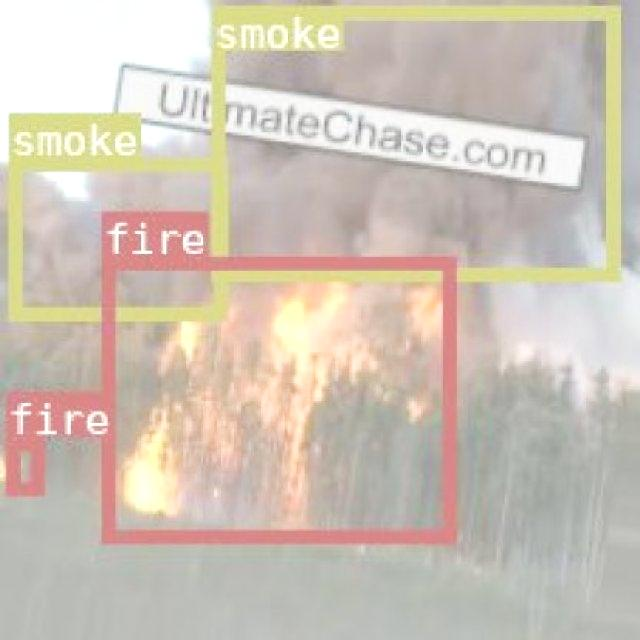fire: (100, 254, 452, 540), (4, 436, 41, 494)
smoke: (210, 3, 616, 277), (5, 156, 224, 318)
